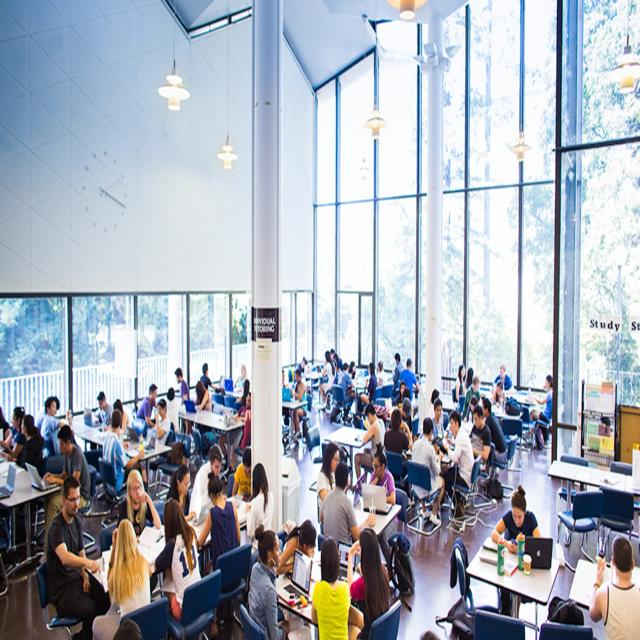body: (46, 474, 106, 640), (245, 523, 315, 639), (37, 423, 93, 566), (90, 518, 154, 639), (490, 484, 542, 620), (154, 497, 202, 622), (116, 468, 162, 598), (588, 533, 640, 639), (346, 527, 392, 640), (318, 461, 377, 545), (198, 470, 242, 578), (368, 441, 399, 581), (310, 535, 351, 640), (410, 415, 446, 527), (239, 462, 276, 568), (441, 408, 476, 519), (102, 408, 145, 497), (0, 396, 61, 453), (316, 442, 352, 536), (187, 442, 228, 523), (352, 401, 386, 492), (1, 413, 43, 479), (218, 391, 250, 471), (139, 397, 171, 474), (274, 519, 316, 577), (39, 396, 76, 457), (482, 397, 508, 482), (232, 448, 251, 547), (527, 373, 554, 442), (166, 463, 197, 523), (383, 408, 414, 462), (468, 404, 492, 471), (0, 406, 27, 460), (290, 368, 308, 443), (427, 379, 452, 432), (136, 383, 158, 437), (460, 374, 483, 424), (386, 396, 413, 438), (293, 356, 314, 410), (192, 379, 212, 435), (325, 345, 357, 380), (102, 398, 133, 434), (429, 397, 450, 449), (336, 362, 354, 422), (278, 367, 291, 445), (91, 390, 114, 433), (320, 350, 337, 407), (399, 358, 420, 404), (166, 386, 186, 434), (359, 362, 378, 406), (493, 362, 515, 398), (490, 381, 506, 428), (173, 366, 190, 403), (391, 352, 404, 398), (200, 362, 218, 392), (455, 363, 467, 402), (234, 377, 252, 403), (232, 364, 247, 393), (394, 380, 408, 408), (462, 366, 474, 396), (376, 360, 388, 387), (469, 394, 479, 422), (402, 384, 412, 404)
